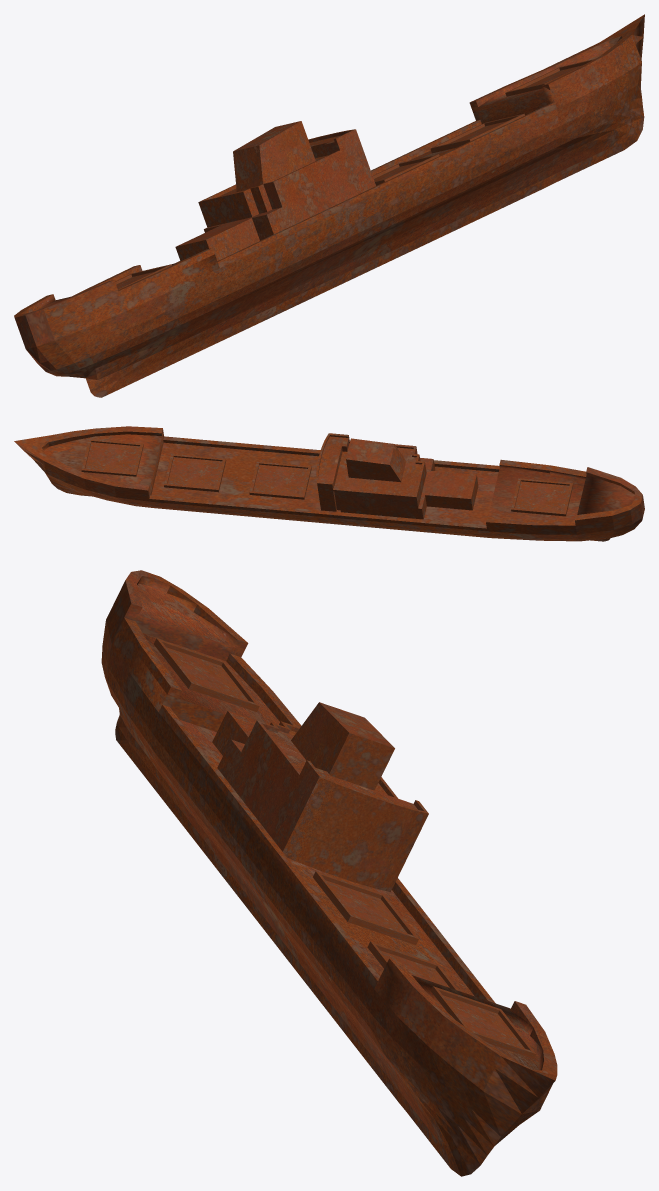
Rendered from ship.obj.
3 views of the same model, one above another, from view 1: azimuth 30°, elevation 25°; view 2: azimuth 150°, elevation 25°; view 3: azimuth 270°, elevation 25° (orthographic). The views are drawn at different scales.
Parts seen in each view (by area): view 1: Rumpf_Cube.000; view 2: Rumpf_Cube.000; view 3: Rumpf_Cube.000.
Boxes of the visible parts, bbox=[...] form: Rumpf_Cube.000: bbox=[14, 14, 644, 397]; Rumpf_Cube.000: bbox=[14, 426, 644, 541]; Rumpf_Cube.000: bbox=[101, 570, 557, 1176].
Size of the model in its own units: 27.25 by 4.86 by 10.19.
